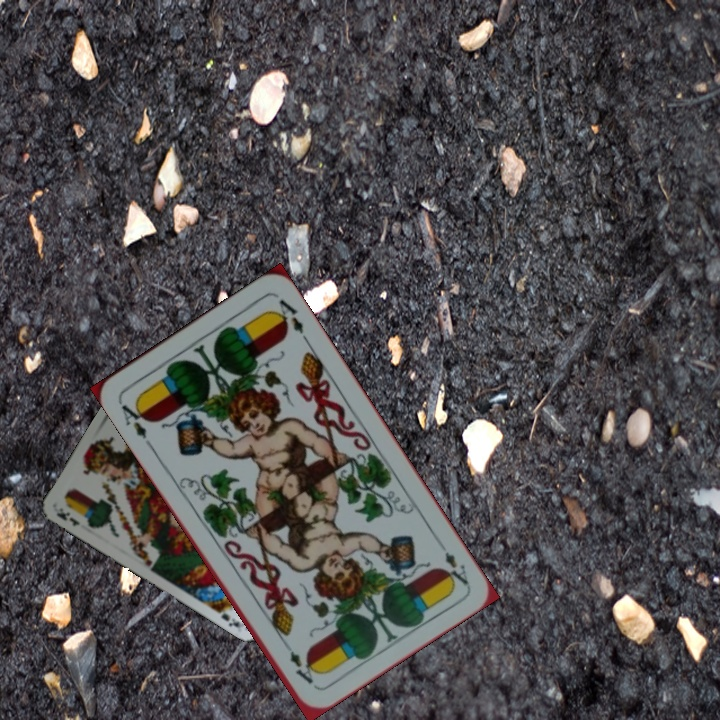EA: (115, 397, 153, 442), (438, 547, 472, 589)
EK: (52, 504, 82, 529)
